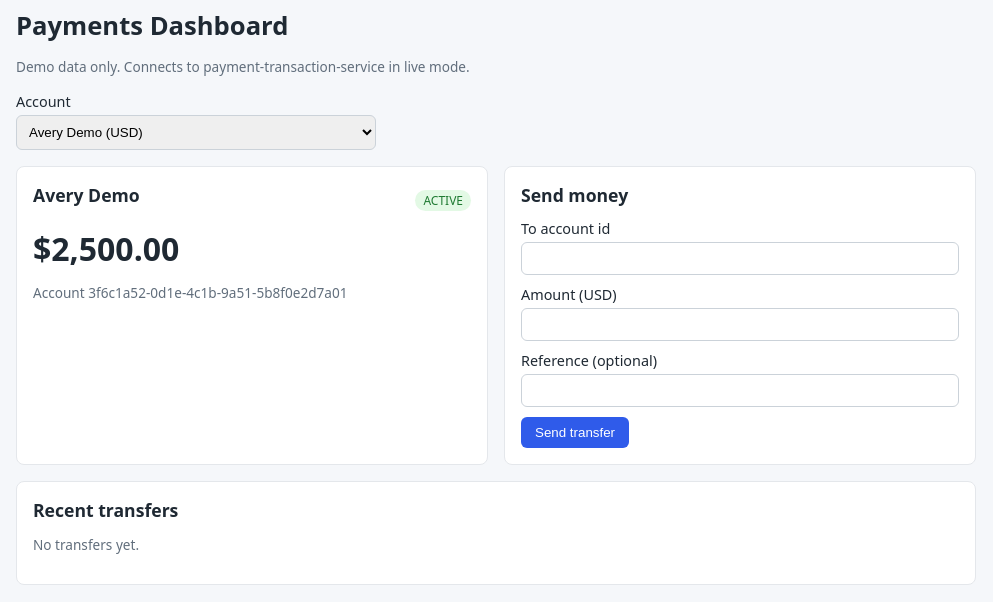
Scenario: App › disables sending from a frozen account
The image size is (993, 602).
Check: the text "$2,500.00" is shown, box [33,227,179,270]
Select "Riley Placeholder (EUR)" in the dropdown labelled "Account": (196, 132) [16,115,376,150]
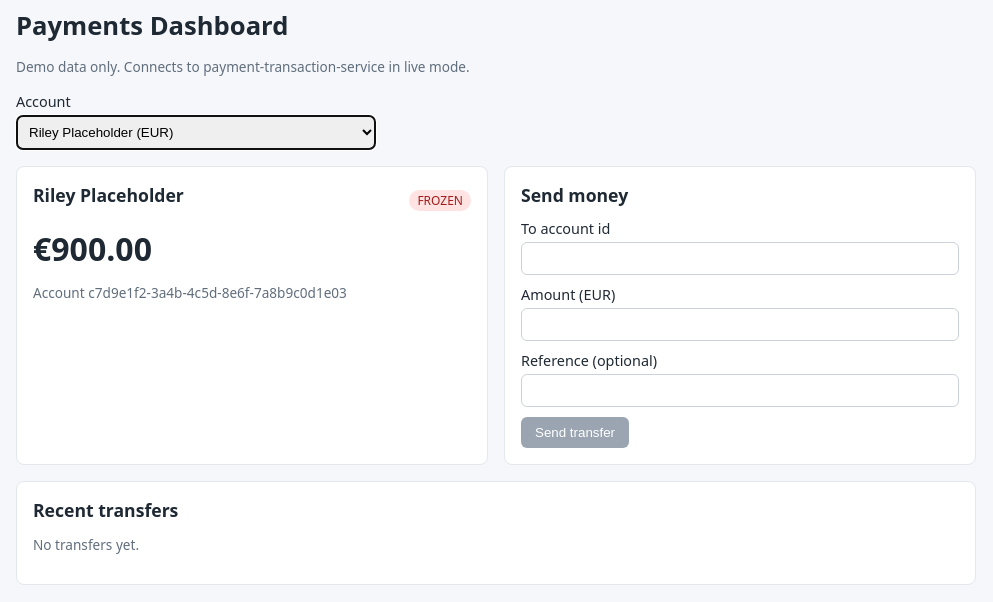
Check: the text "FROZEN" is shown, box [409,190,471,211]
Check: the button "Send transfer" is disabled, box [521,417,629,448]
